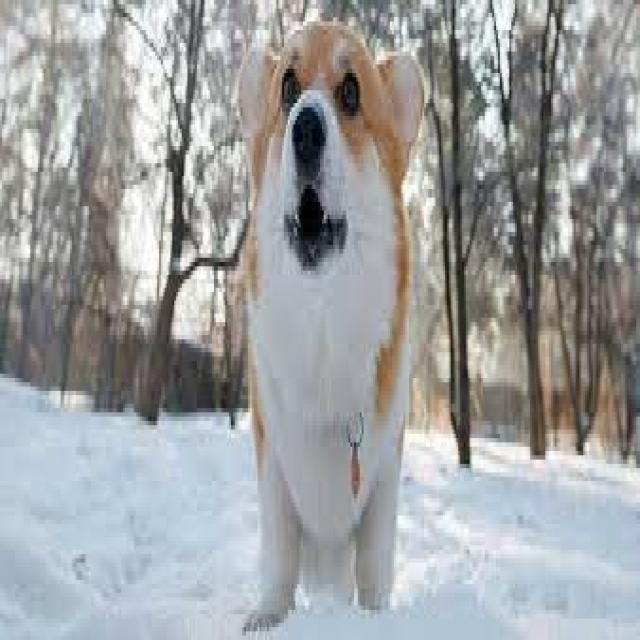CORGI: (228, 19, 428, 640)
